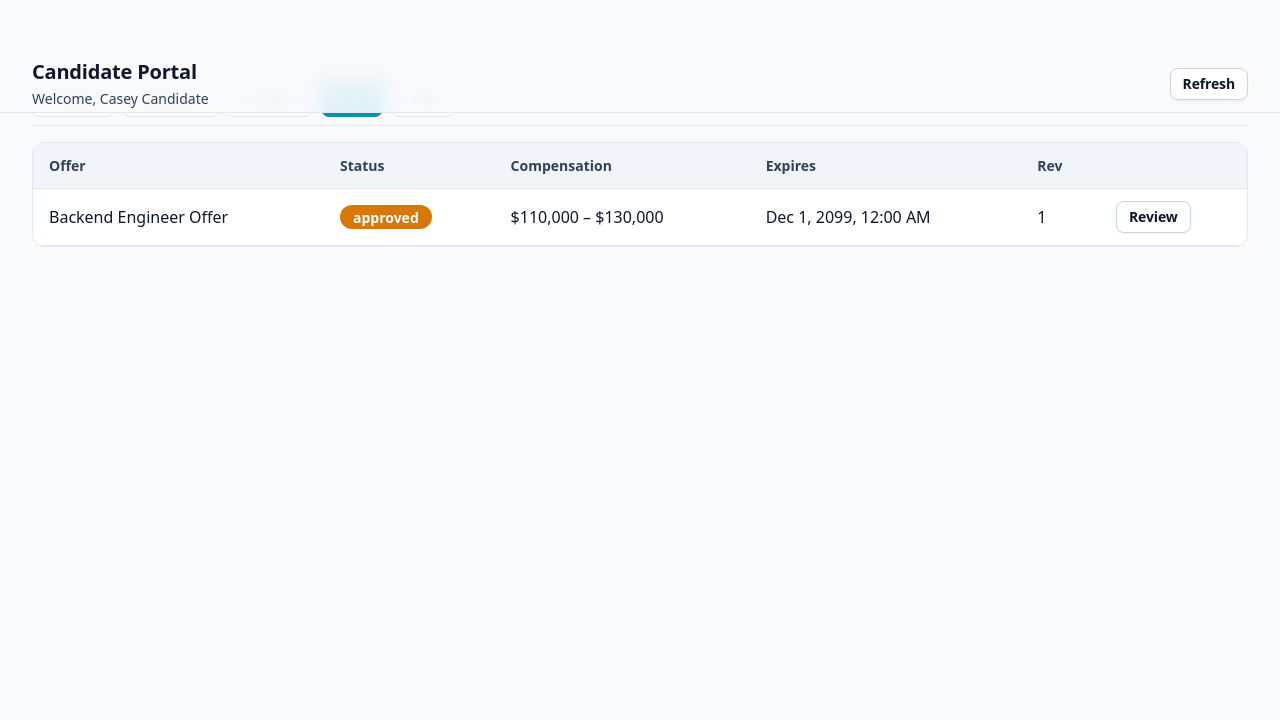
CandidatePortalPage › requires confirmation before decline
What coordinates should you click on to do the following:
click the button "Review"
I would click on:
 (1153, 217)
Its box is [1116,201,1191,233].
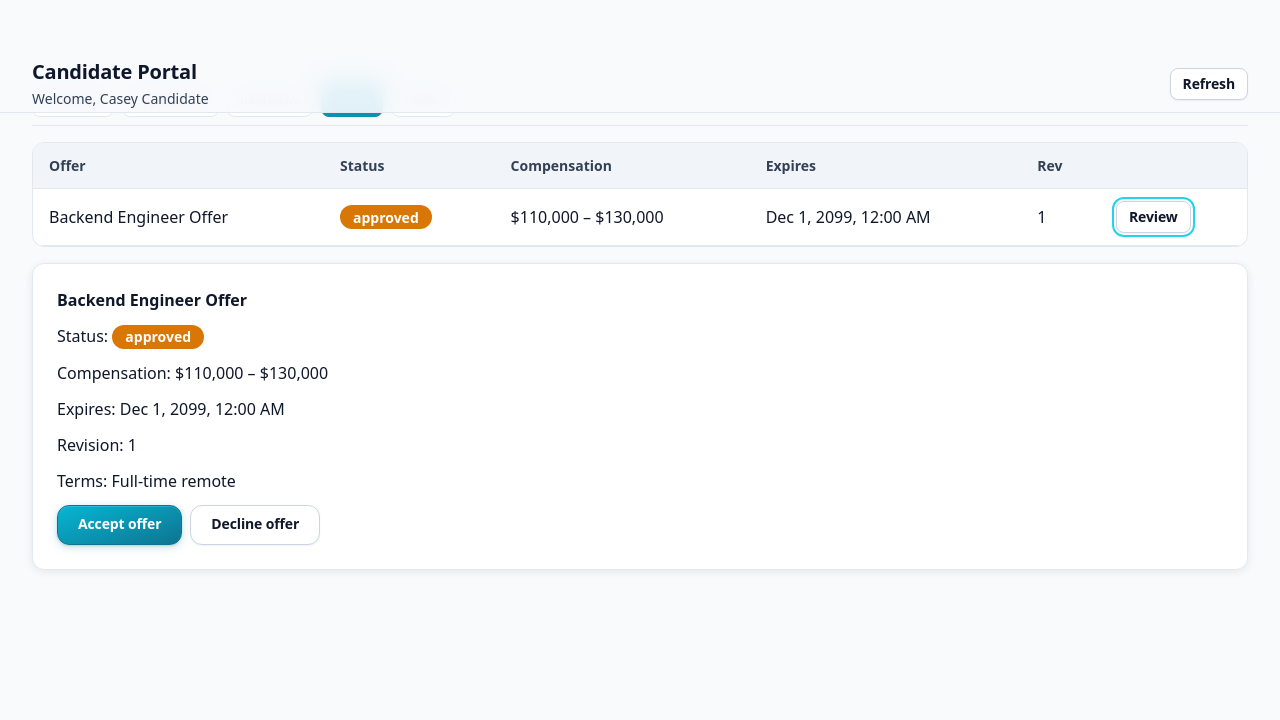
What coordinates should you click on to do the following:
click the button "Decline offer"
I would click on:
 (255, 524)
Its box is [190,504,320,544].
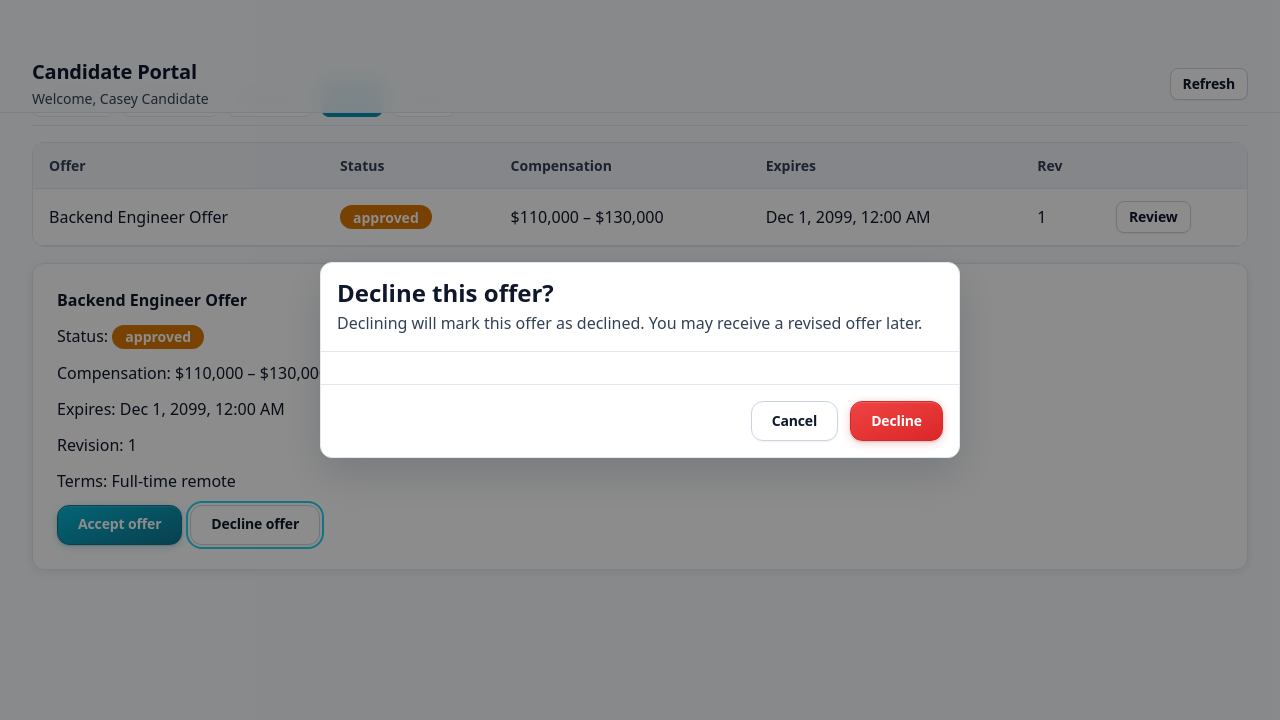
Expected: the heading "Decline this offer?" is shown, [337,276,554,309]
What coordinates should you click on to do the following:
click the button "Decline"
I would click on:
 (897, 421)
Its box is [850,401,943,441].
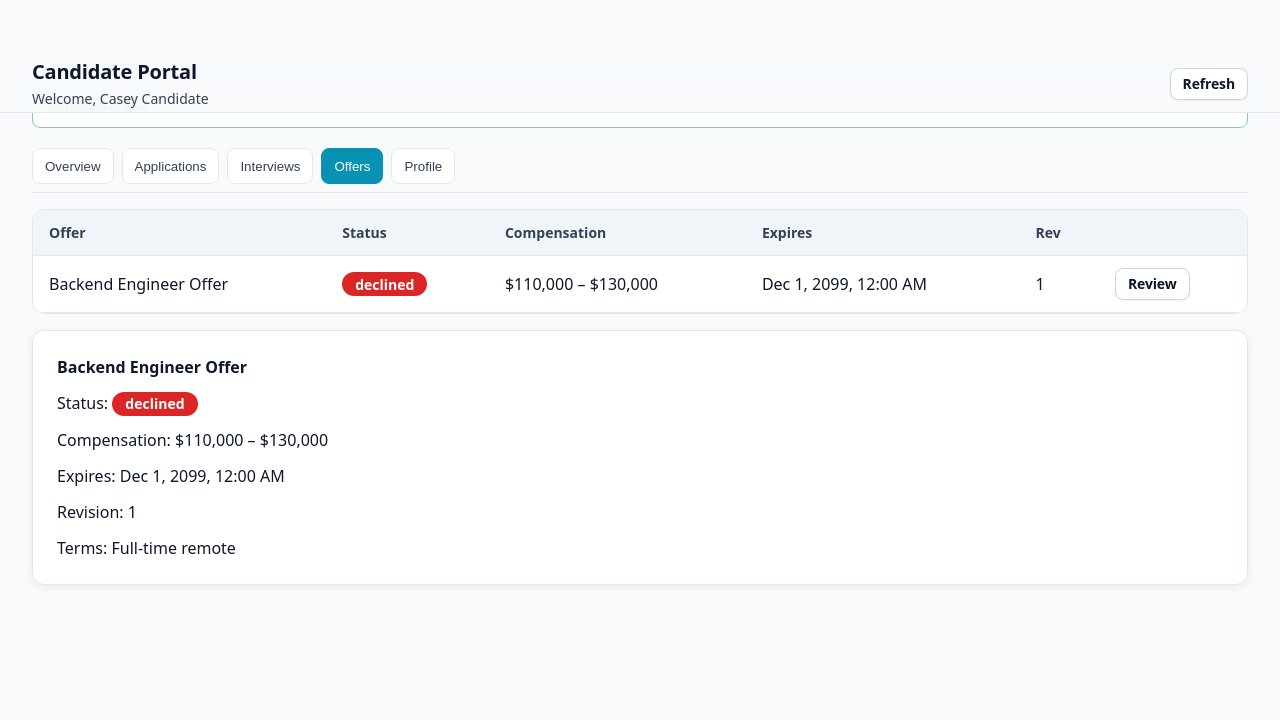
Expected: the text "Offer declined." is shown, [49,95,146,114]
